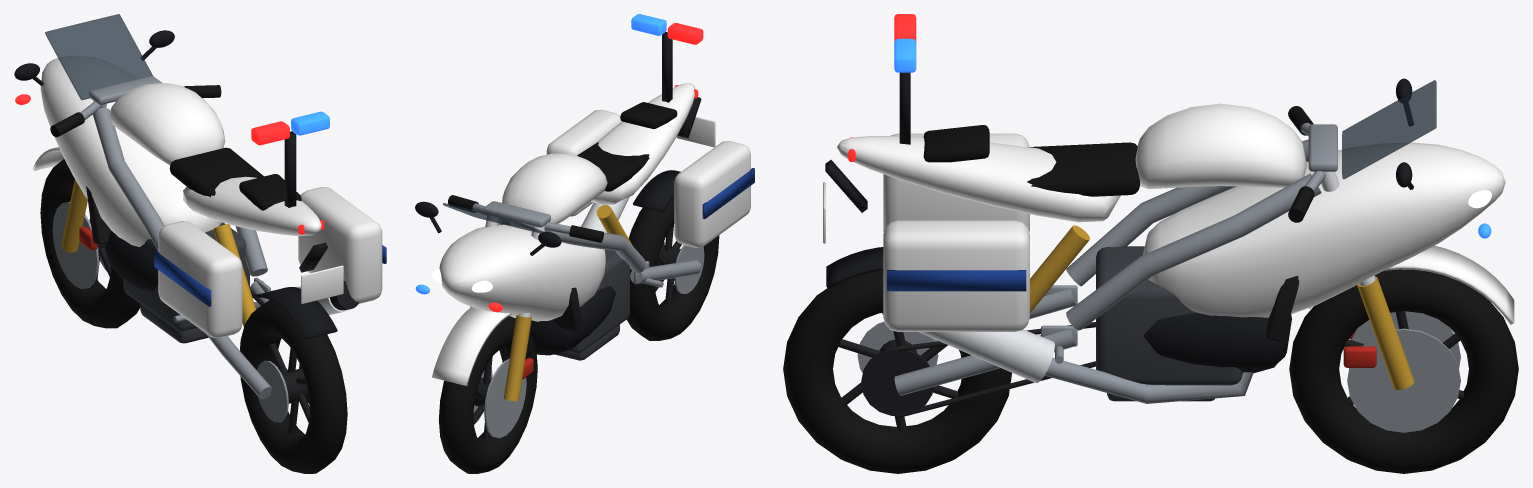
File: policebike_lo.glb
3 views of the same model, side by side, from view 1: azimuth 30°, elevation 25°; view 2: azimuth 150°, elevation 25°; view 3: azimuth 270°, elevation 25° (orthographic). The views are drawn at different scales.
Parts seen in each view (by area): view 1: bike_BodyPaint, bike_Pannier, WheelR, WheelF, bike_Metal, bike_BodyDark, bike_Glass, bike_Seat, bike_Engine, bike_Gold, bike_Plate, bike_Rim (+4 smaller); view 2: bike_BodyPaint, WheelF, bike_Pannier, WheelR, bike_BodyDark, bike_Metal, bike_Seat, bike_Engine, bike_Gold, bike_Chrome, bike_PoliceStripe, bike_Rubber (+5 smaller); view 3: bike_BodyPaint, WheelF, WheelR, bike_Metal, bike_Pannier, bike_BodyDark, bike_Engine, bike_Seat, bike_Glass, bike_Gold, bike_Chrome, bike_PoliceStripe (+4 smaller).
Boxes of the visible parts, bbox=[...] form: bike_BodyPaint: bbox=[32, 56, 321, 246]; bike_Pannier: bbox=[158, 187, 382, 337]; WheelR: bbox=[240, 300, 347, 473]; WheelF: bbox=[40, 159, 140, 328]; bike_Metal: bbox=[80, 76, 271, 399]; bike_BodyDark: bbox=[14, 30, 337, 339]; bike_Glass: bbox=[45, 14, 152, 100]; bike_Seat: bbox=[169, 147, 301, 210]; bike_Engine: bbox=[123, 222, 249, 343]; bike_Gold: bbox=[61, 179, 256, 326]; bike_Plate: bbox=[301, 265, 343, 303]; bike_Rim: bbox=[86, 186, 358, 403]; bike_BodyPaint: bbox=[431, 83, 695, 385]; WheelF: bbox=[438, 316, 537, 473]; bike_Pannier: bbox=[546, 109, 750, 247]; WheelR: bbox=[626, 196, 719, 340]; bike_BodyDark: bbox=[415, 32, 701, 355]; bike_Metal: bbox=[472, 201, 701, 287]; bike_Seat: bbox=[577, 102, 677, 191]; bike_Engine: bbox=[554, 249, 629, 360]; bike_Gold: bbox=[470, 205, 632, 401]; bike_Chrome: bbox=[485, 197, 629, 317]; bike_PoliceStripe: bbox=[702, 168, 754, 219]; bike_Rubber: bbox=[448, 195, 603, 242]; bike_BodyPaint: bbox=[837, 103, 1514, 324]; WheelF: bbox=[1289, 269, 1518, 473]; WheelR: bbox=[783, 270, 1011, 473]; bike_Metal: bbox=[894, 123, 1337, 403]; bike_Pannier: bbox=[883, 133, 1029, 331]; bike_BodyDark: bbox=[825, 72, 1413, 373]; bike_Engine: bbox=[1096, 246, 1242, 401]; bike_Seat: bbox=[923, 125, 1139, 196]; bike_Glass: bbox=[1342, 80, 1436, 179]; bike_Gold: bbox=[1030, 225, 1414, 389]; bike_Chrome: bbox=[918, 149, 1375, 383]; bike_PoliceStripe: bbox=[887, 270, 1026, 291].
Size of the model in its own units: 0.712 by 1.32 by 2.01.
